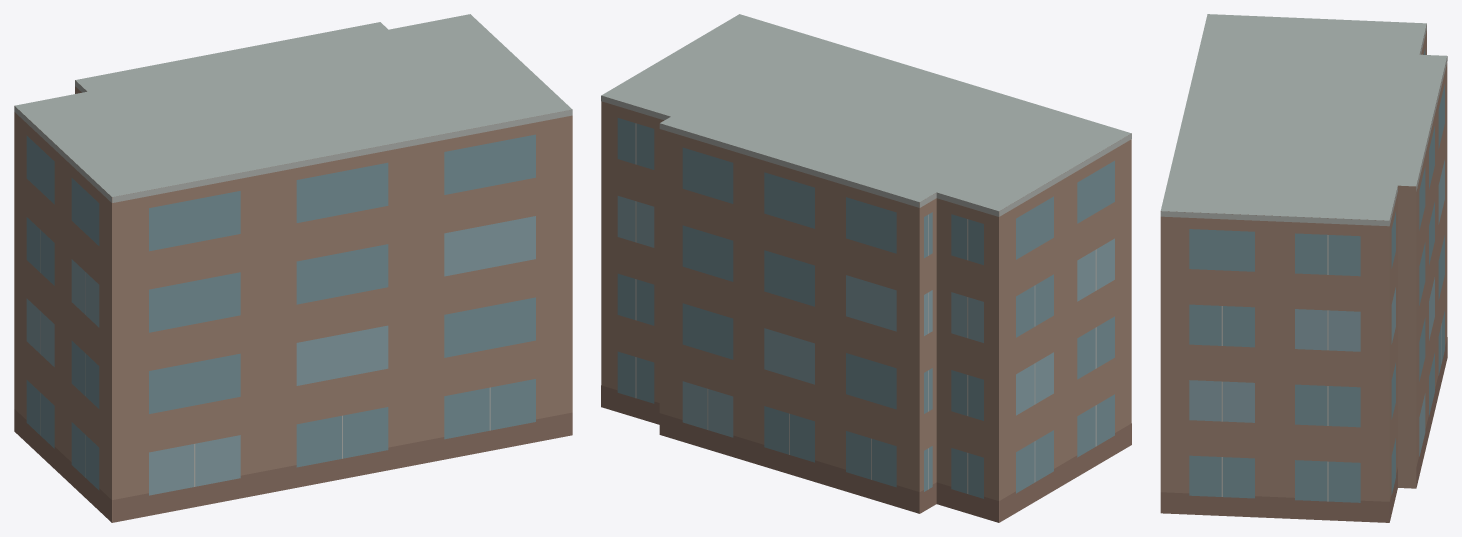
The model's file is survey-upis-32910850.glb.
3 renders of one model, left to right at view 1: azimuth 30°, elevation 25°; view 2: azimuth 150°, elevation 25°; view 3: azimuth 270°, elevation 25°, orthographic. The views are drawn at different scales.
Parts seen in each view (by area): view 1: survey-upis-32910850.tmp; view 2: survey-upis-32910850.tmp; view 3: survey-upis-32910850.tmp.
Boxes of the visible parts, x1=… form: survey-upis-32910850.tmp: x1=14, y1=14, x2=572, y2=522; survey-upis-32910850.tmp: x1=601, y1=14, x2=1131, y2=522; survey-upis-32910850.tmp: x1=1160, y1=14, x2=1447, y2=522.
Bounding box in the file's own units: 19.44 × 13.25 × 11.41.
